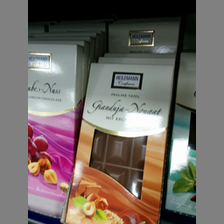chocolate: (65, 64, 172, 224), (28, 43, 80, 221)
